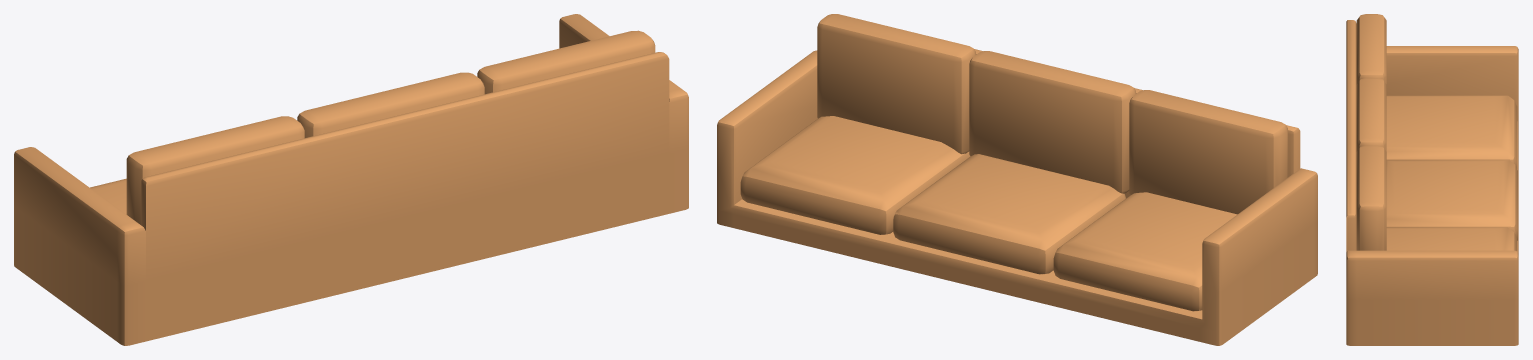
Rendered from MS_Sofa.fbx.
The picture shows the model from 3 angles, left to right: view 1: azimuth 30°, elevation 25°; view 2: azimuth 150°, elevation 25°; view 3: azimuth 270°, elevation 25°; orthographic projection. The views are drawn at different scales.
Parts seen in each view (by area): view 1: MS_Sofa; view 2: MS_Sofa; view 3: MS_Sofa.
Boxes of the visible parts, left/top/right/bottom form: MS_Sofa: left=14, top=14, right=688, bottom=345; MS_Sofa: left=717, top=14, right=1317, bottom=345; MS_Sofa: left=1346, top=14, right=1518, bottom=345.
Size of the model in its own units: 2.5 by 0.7166 by 0.8567.
